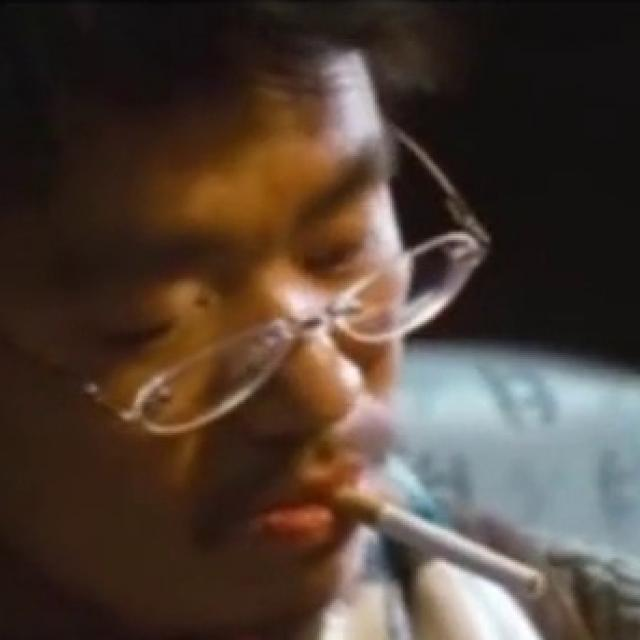smoking: (325, 481, 541, 596)
